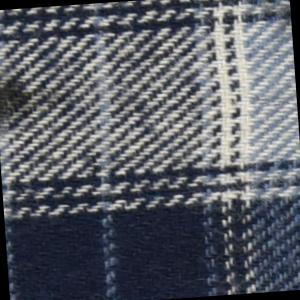Stain: (1, 69, 68, 136)
